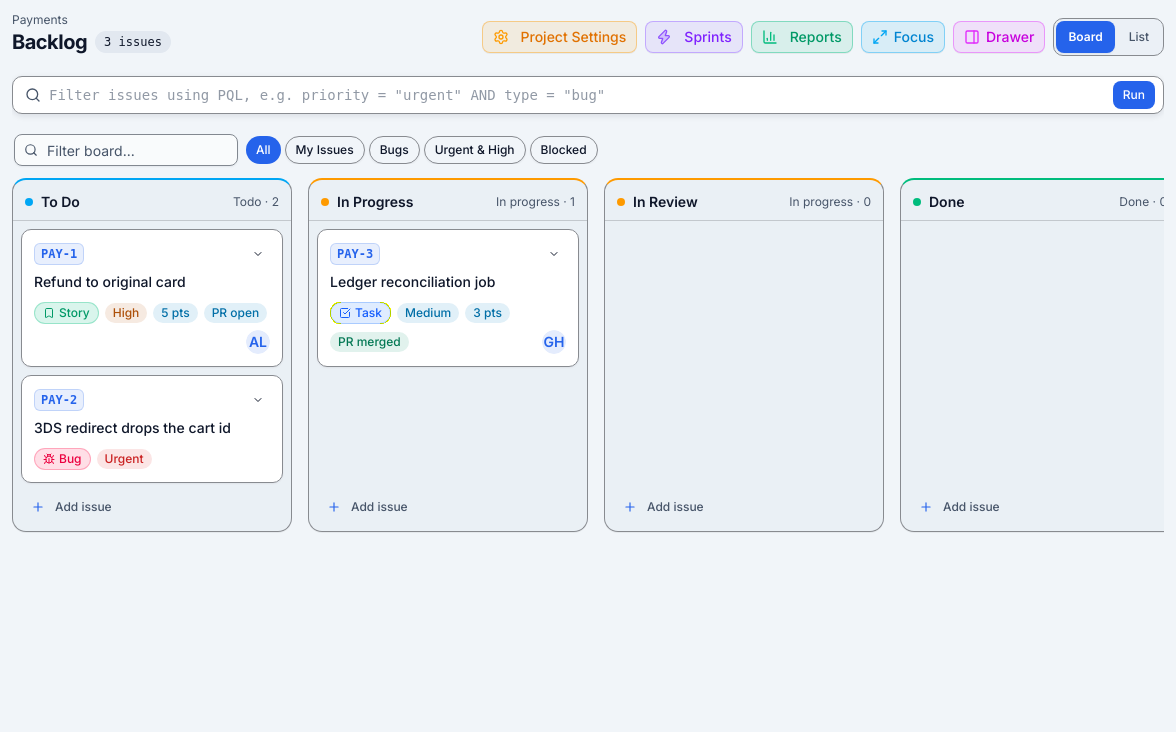
Test: <ListView> board › quick-adds a task at the bottom of the column it was typed in
This screenshot has width=1176, height=732.
Expected: the button "Refund to original card" is shown, [34,272,270,292]
Click the button "Add issue" below "In Review" at (675, 506), box [613,491,875,523]
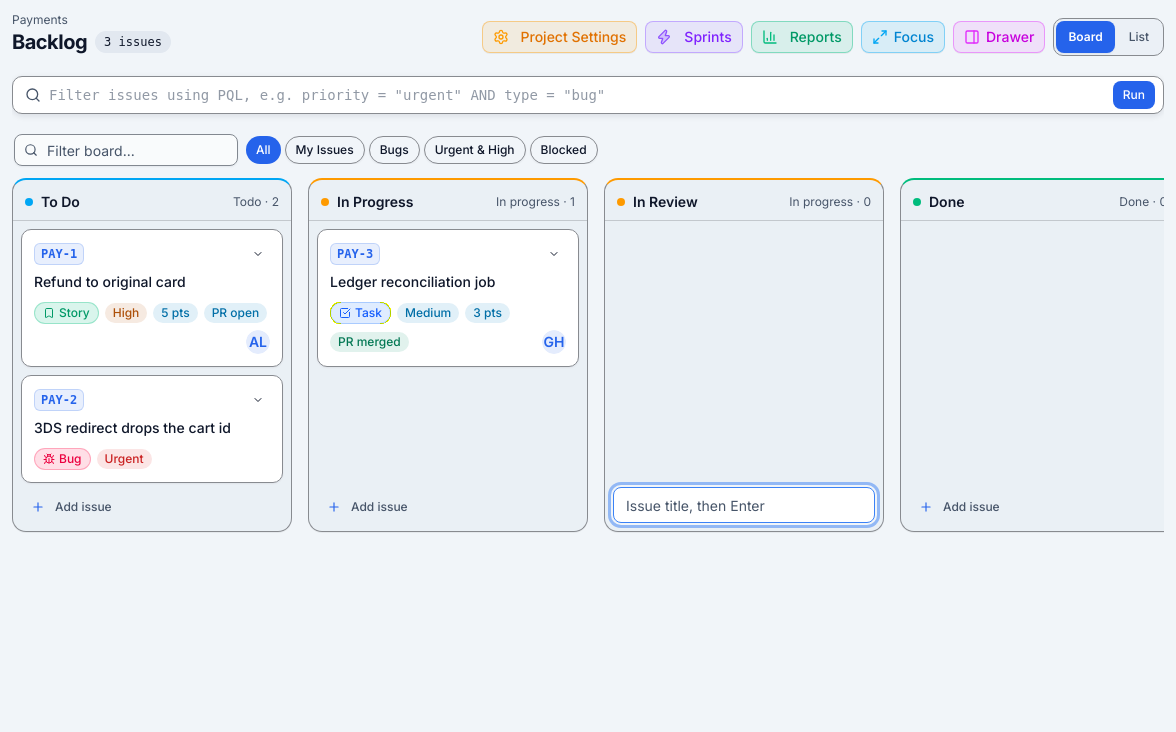
Type "Chargeback webhook" into the field named "New issue title in In Review" at (744, 505), box [613,487,875,523]
Then press Enter
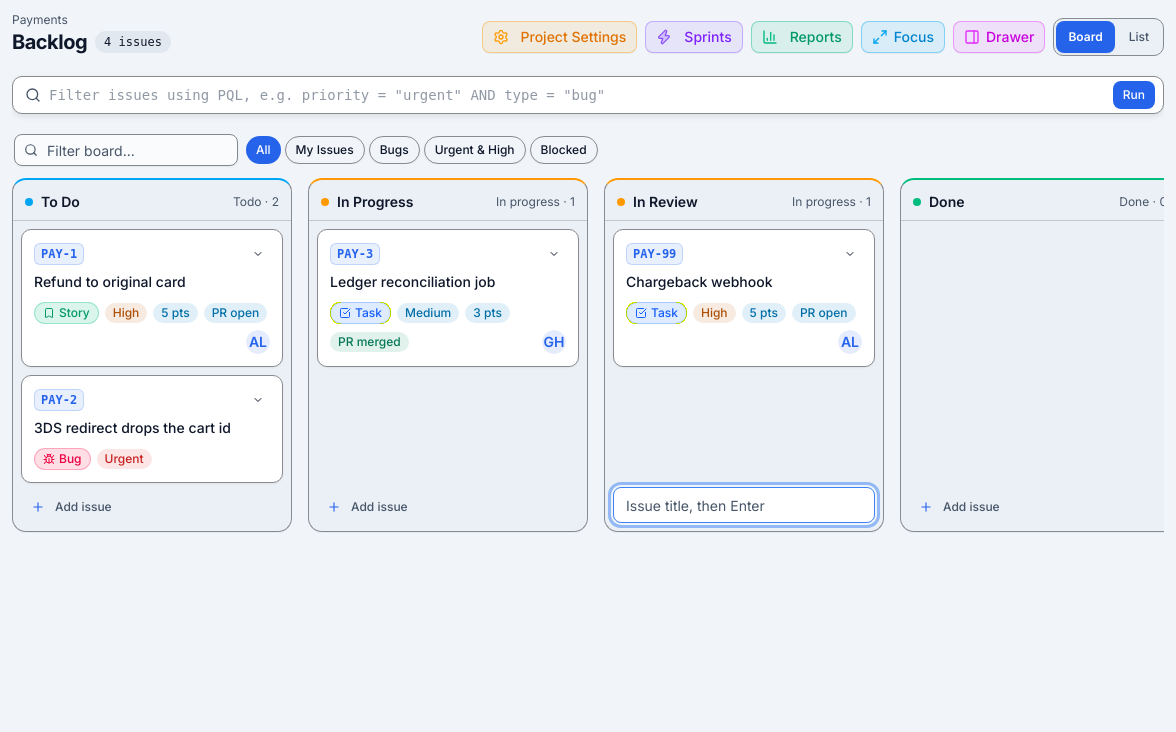
Now the field named "New issue title in In Review" is empty, box [613,487,875,523]
Now the button "Chargeback webhook" is shown, box [626,272,862,292]
